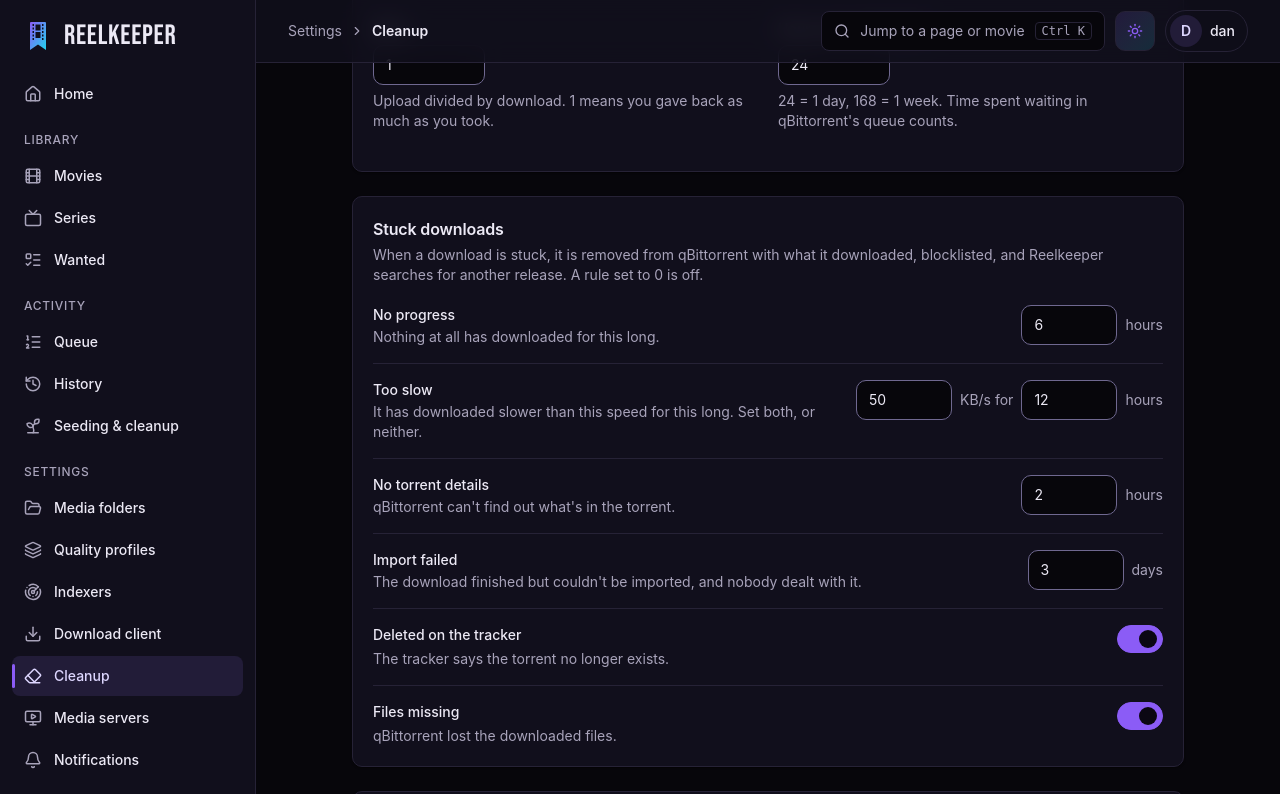
Scenario: cleanup settings › shows field errors from the server
(page scrolled)
Clear the number field named "Slow for, hours": [1069, 400] box [1021, 380, 1117, 420]
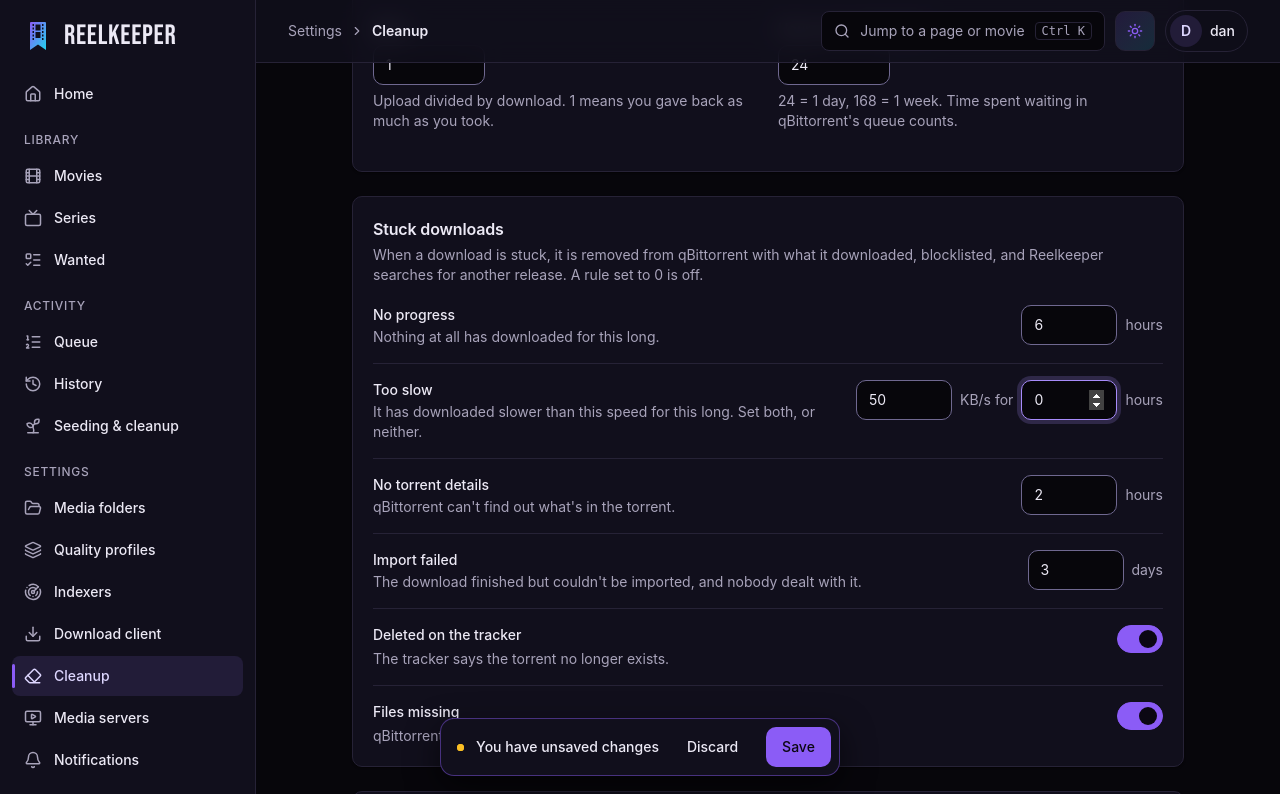
Click the button "Save": [798, 747] box [766, 727, 831, 767]
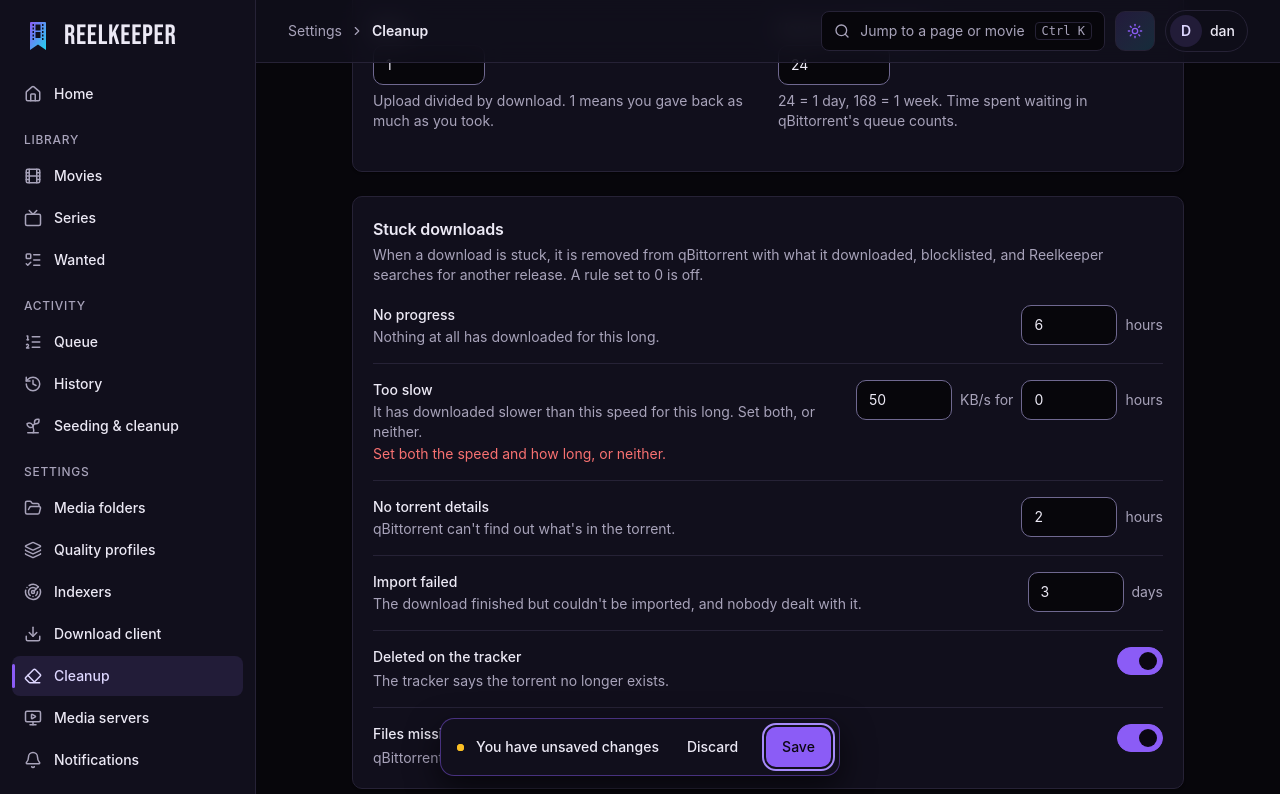
expect the text "Set both the speed and how long, or neither." is shown: met, box [373, 445, 666, 462]
